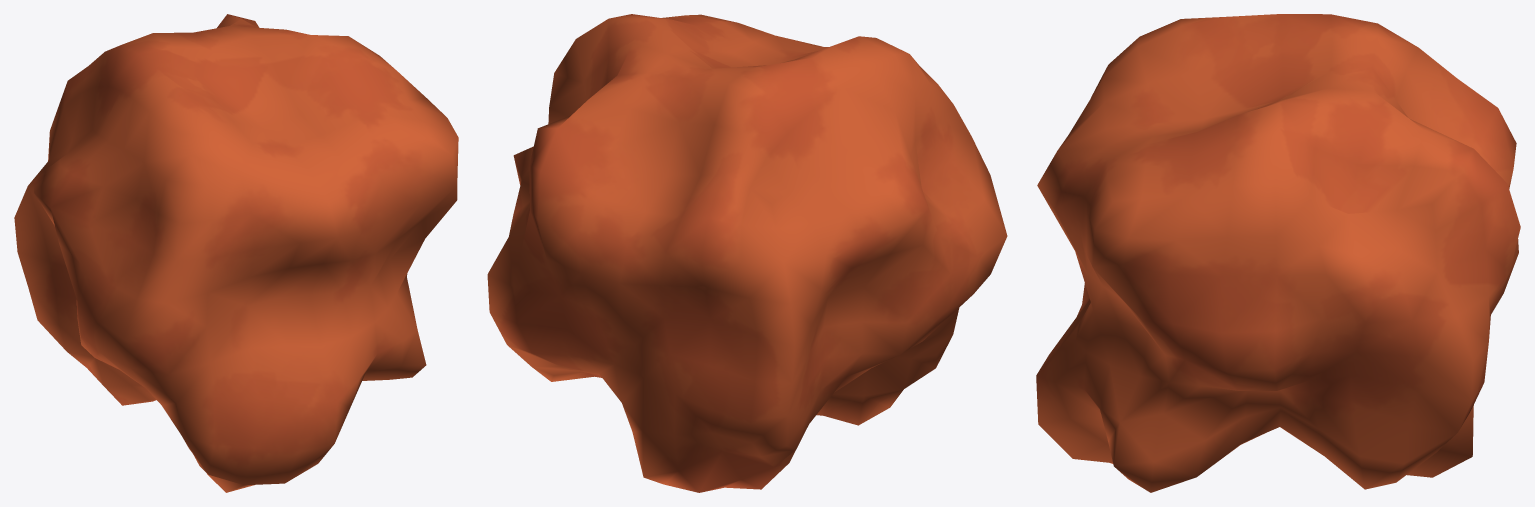
Rendered from Karaage.fbx.
3 renders of one model, left to right at view 1: azimuth 30°, elevation 25°; view 2: azimuth 150°, elevation 25°; view 3: azimuth 270°, elevation 25°, orthographic. The views are drawn at different scales.
Parts seen in each view (by area): view 1: Karaage; view 2: Karaage; view 3: Karaage.
Part boxes in pixels (<box>): Karaage: <box>14,14,458,492</box>; Karaage: <box>487,14,1007,492</box>; Karaage: <box>1036,14,1520,492</box>.
Size of the model in its own units: 292 by 287 by 290.
1 material, 1 textured.
